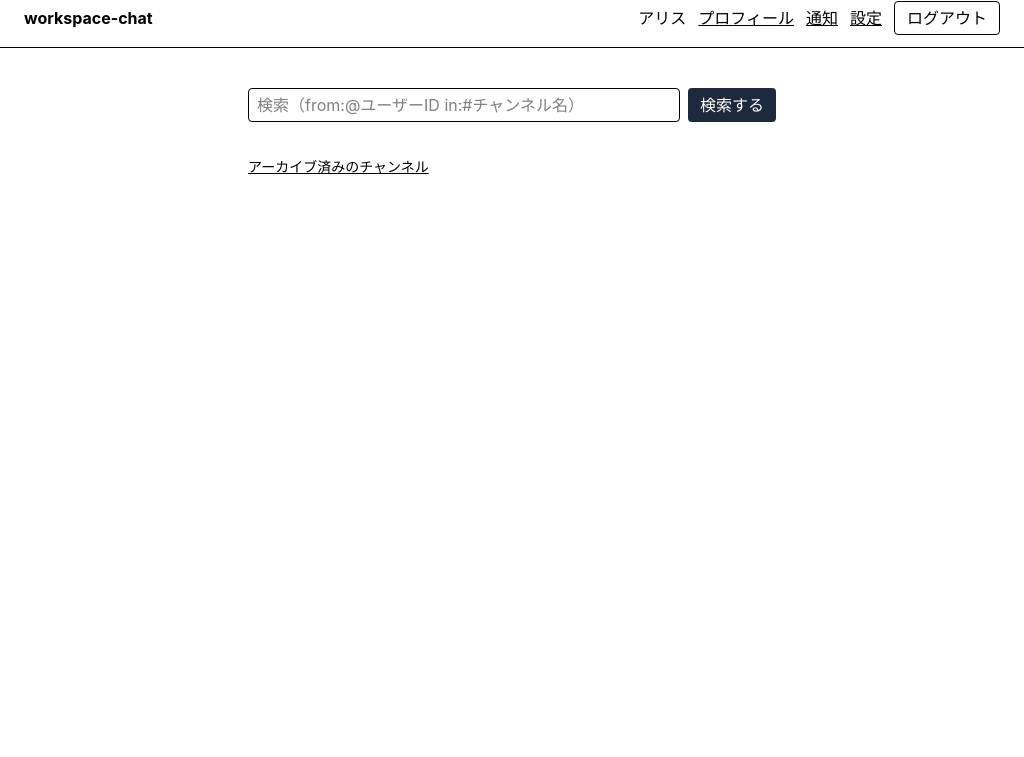
アーカイブ済みのチャンネルを読む（F-35） › オーナーが復元したら、アーカイブ済みの一覧から取り直しを待たずに外す
Click the button "アーカイブ済みのチャンネル" at (338, 167), box [248, 157, 429, 177]
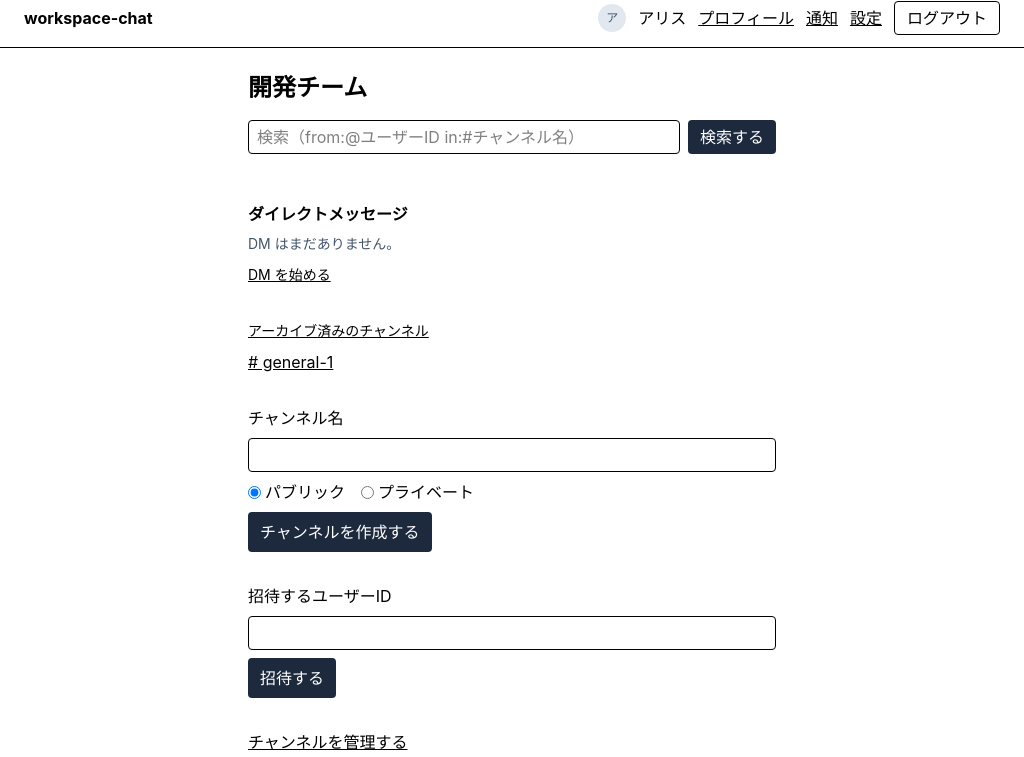
Expected: the link "# general-1" is shown, [248, 352, 333, 372]
Click the button "チャンネルを管理する" at (328, 742), box [248, 730, 408, 754]
(page scrolled)
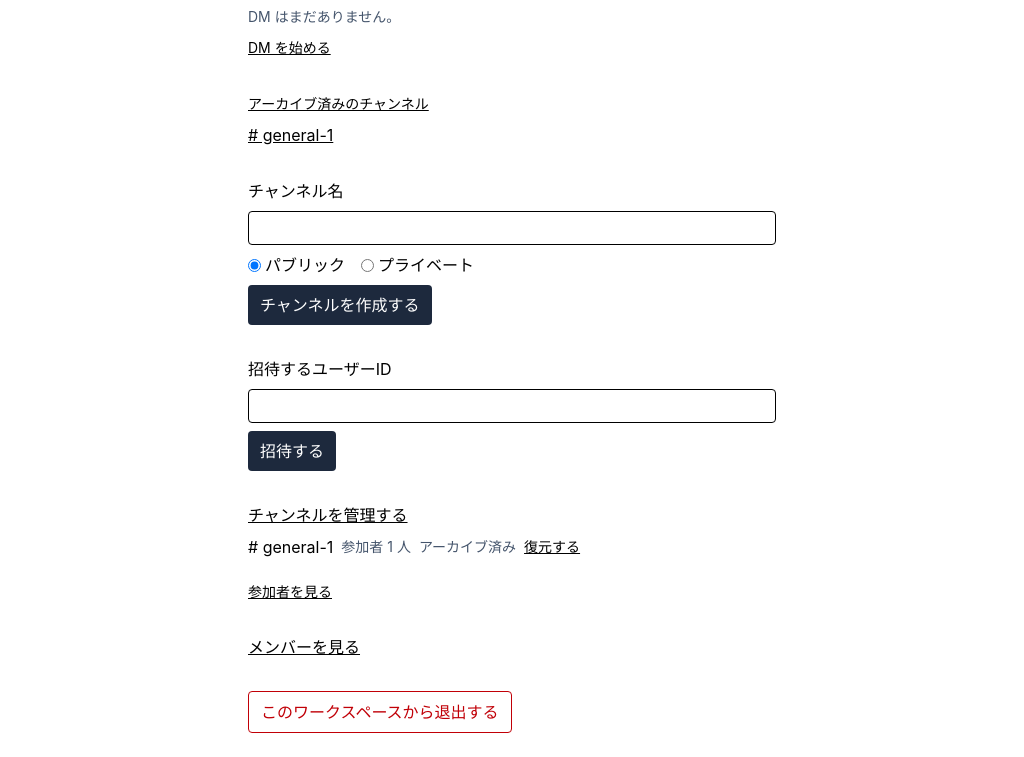
Click the button with aria-label "general-1 を復元する" at (552, 547), box [524, 537, 580, 557]
(page scrolled)
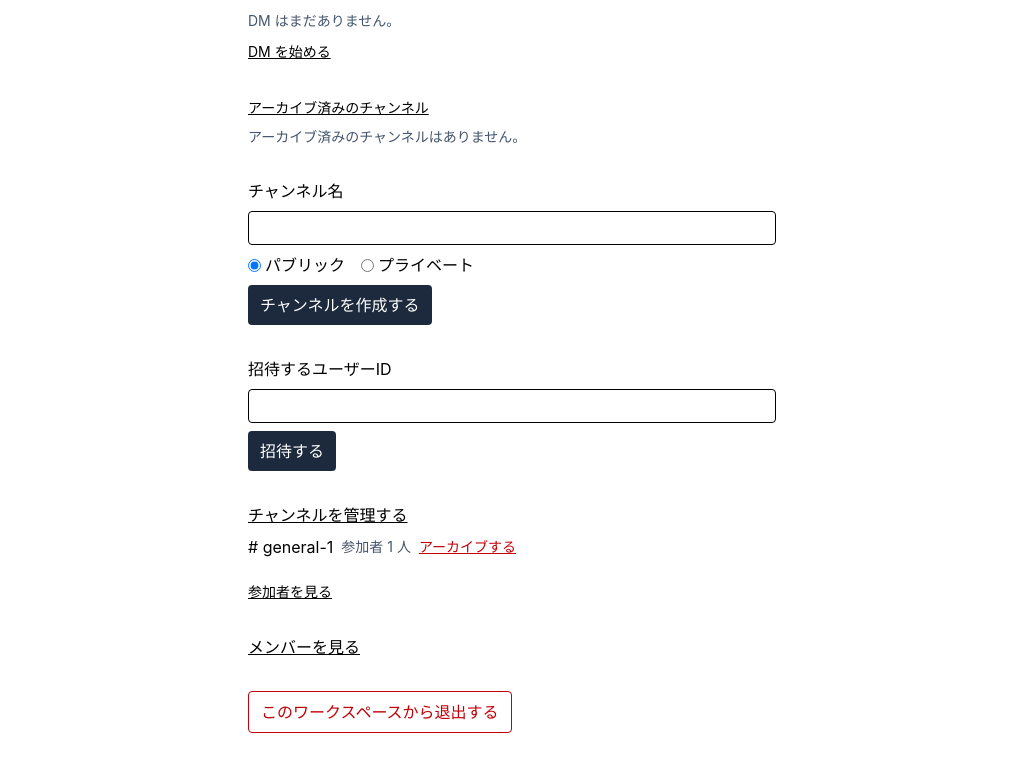
Expected: the button with aria-label "general-1 をアーカイブする" is shown, [419, 537, 516, 557]
Expected: the text "アーカイブ済みのチャンネルはありません。" is shown, [248, 128, 526, 145]
